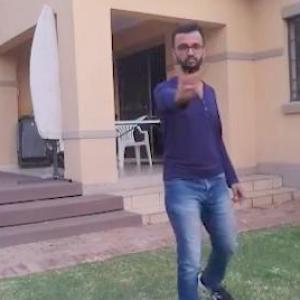takeoff-hand: (166, 56, 212, 107)
